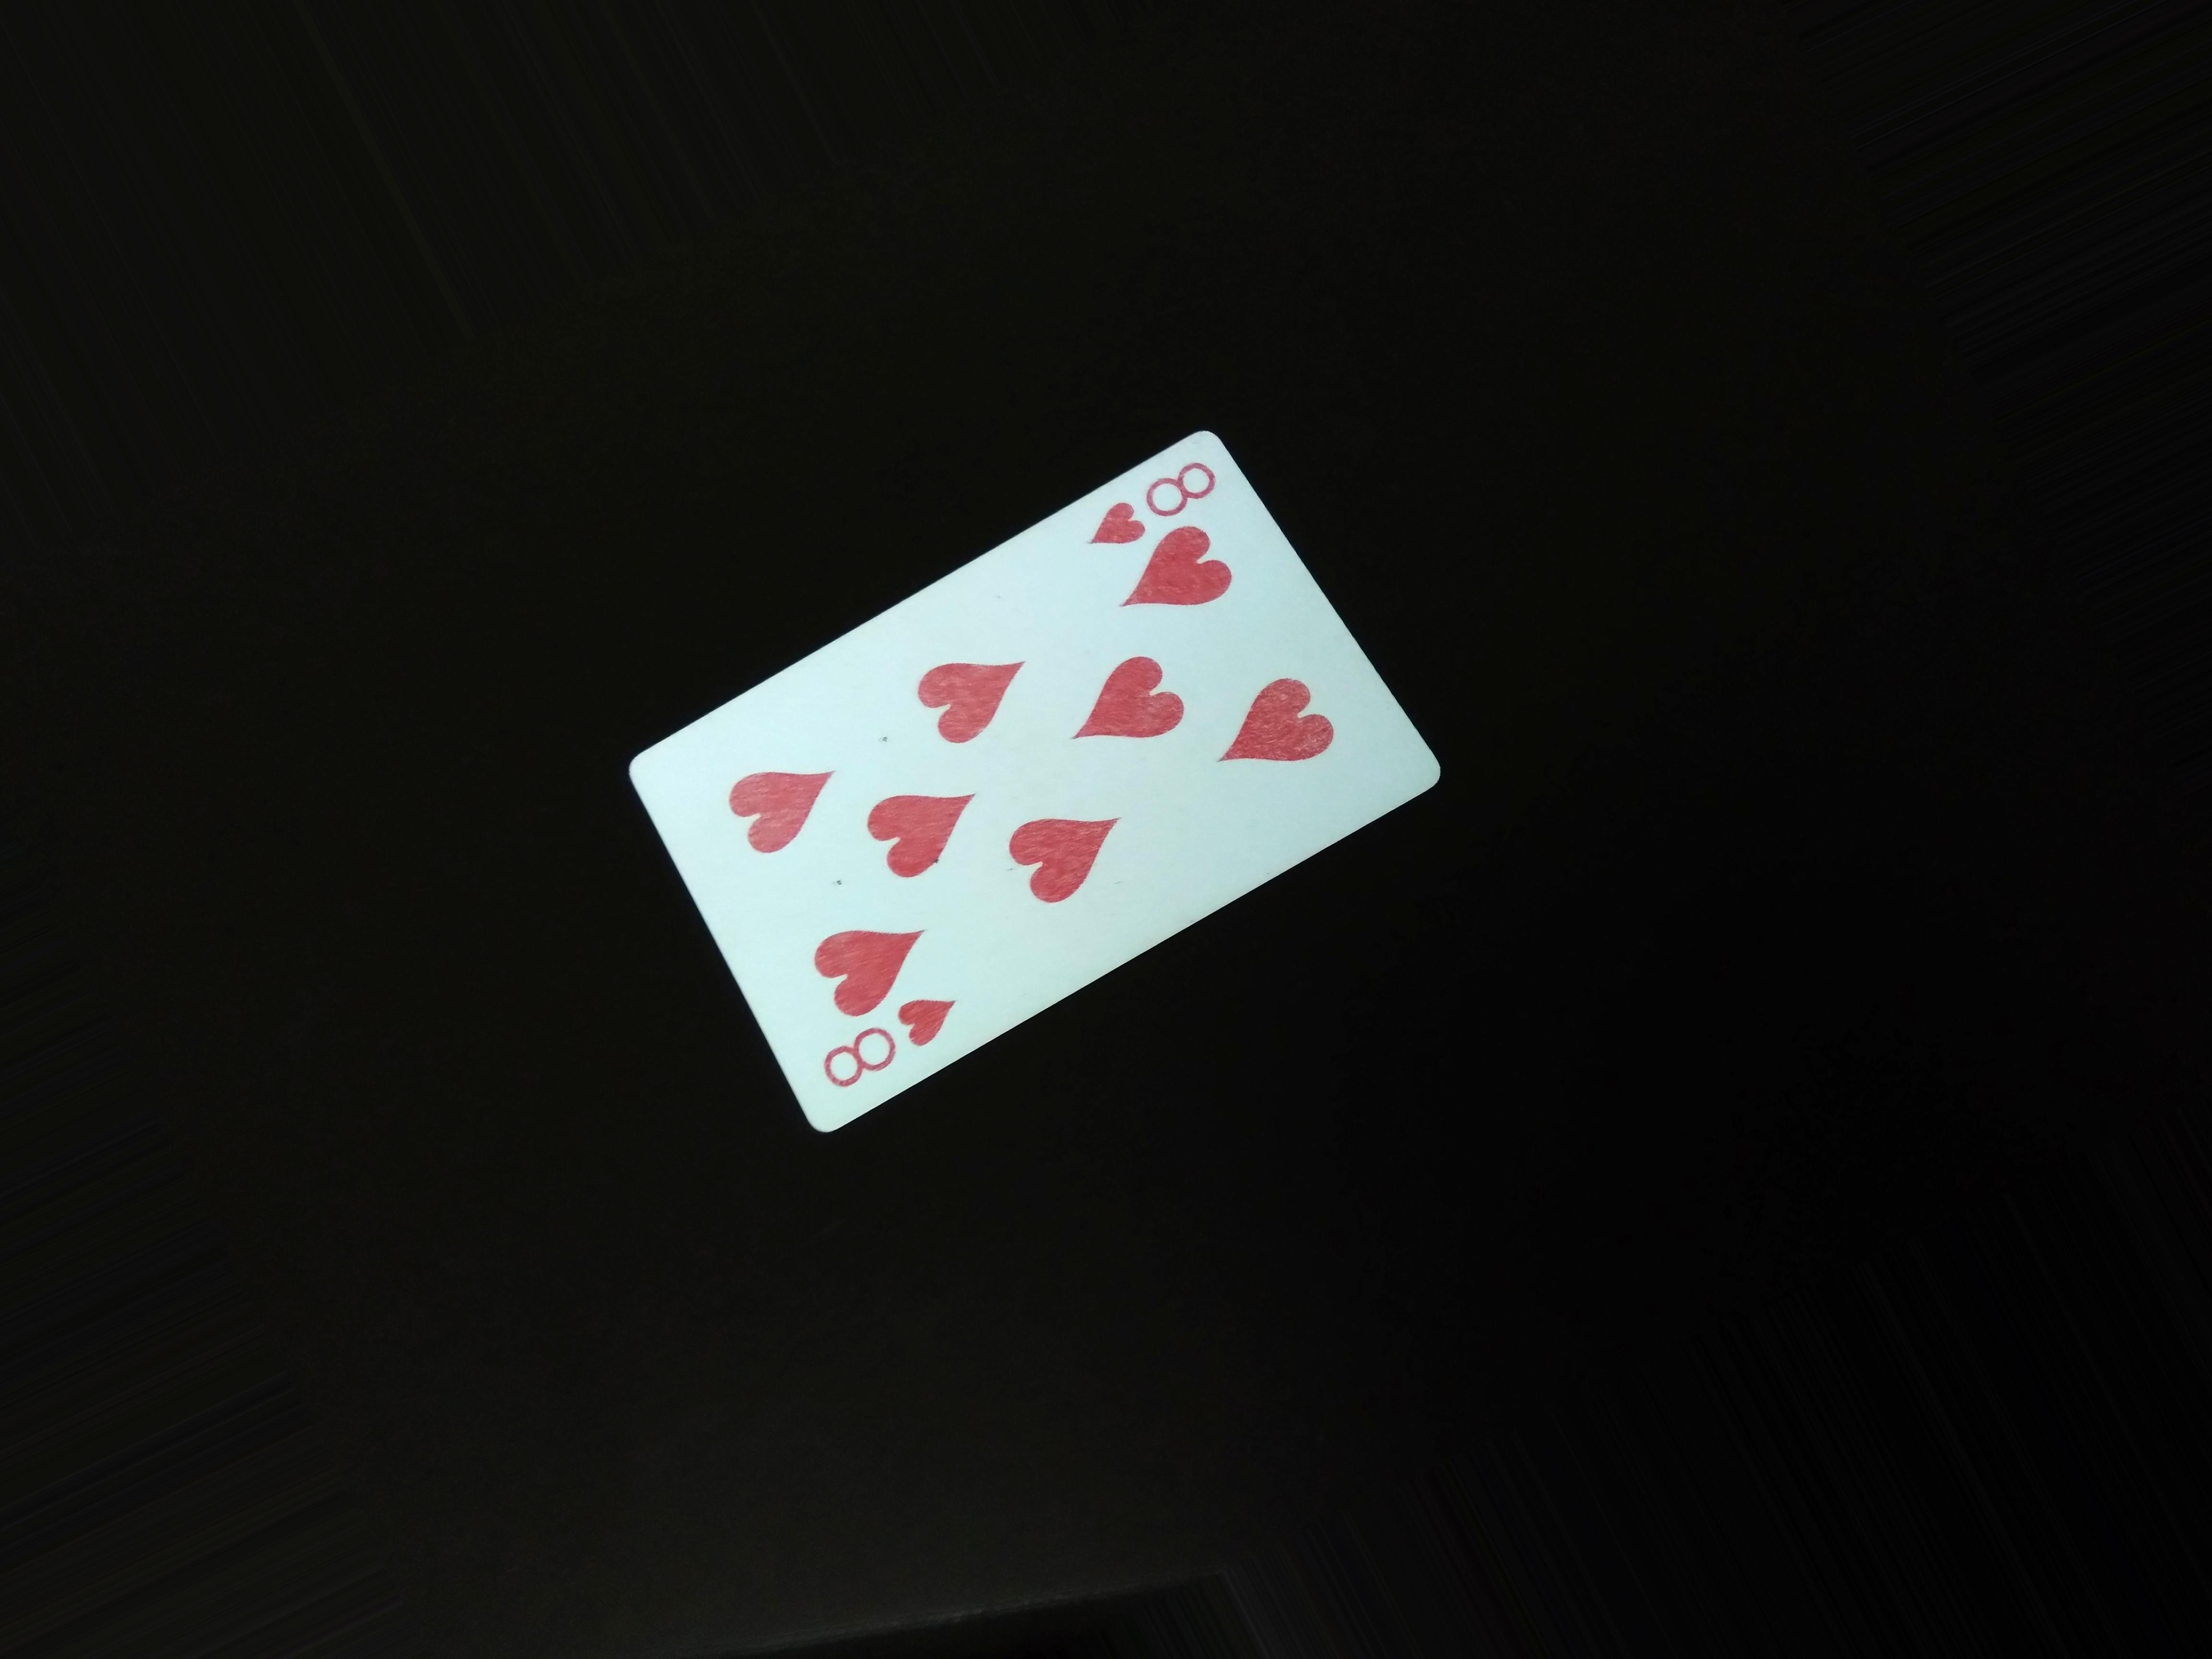8H: (799, 993, 982, 1105)
